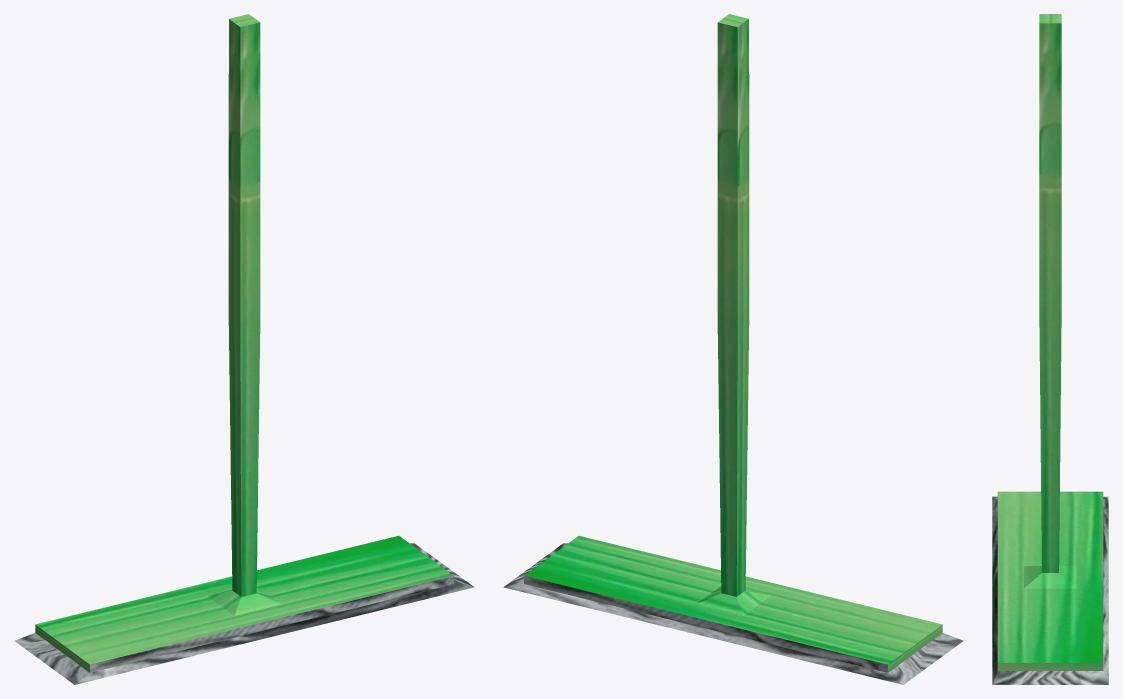
File: MopModel.fbx
3 renders of one model, left to right at view 1: azimuth 30°, elevation 25°; view 2: azimuth 150°, elevation 25°; view 3: azimuth 270°, elevation 25°, orthographic. The views are drawn at different scales.
Visible parts, largest first — view 1: Cube; view 2: Cube; view 3: Cube.
Part boxes in pixels (x1,y1,x2,y2): Cube: [14, 14, 474, 684]; Cube: [503, 14, 963, 684]; Cube: [992, 14, 1108, 684].
Bounding box in the file's own units: 506 × 717 × 132.
1 material, 1 textured.
